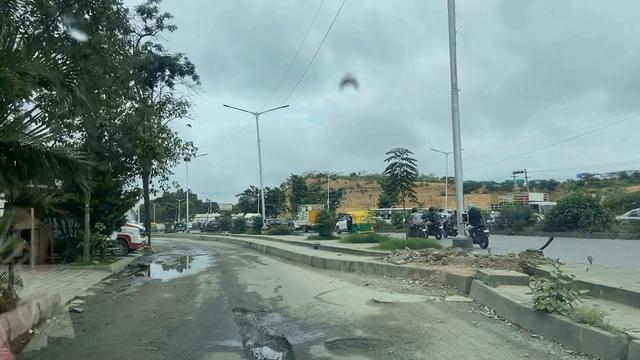RoadDamages: (223, 309, 298, 360), (363, 292, 467, 318), (327, 331, 395, 360)
